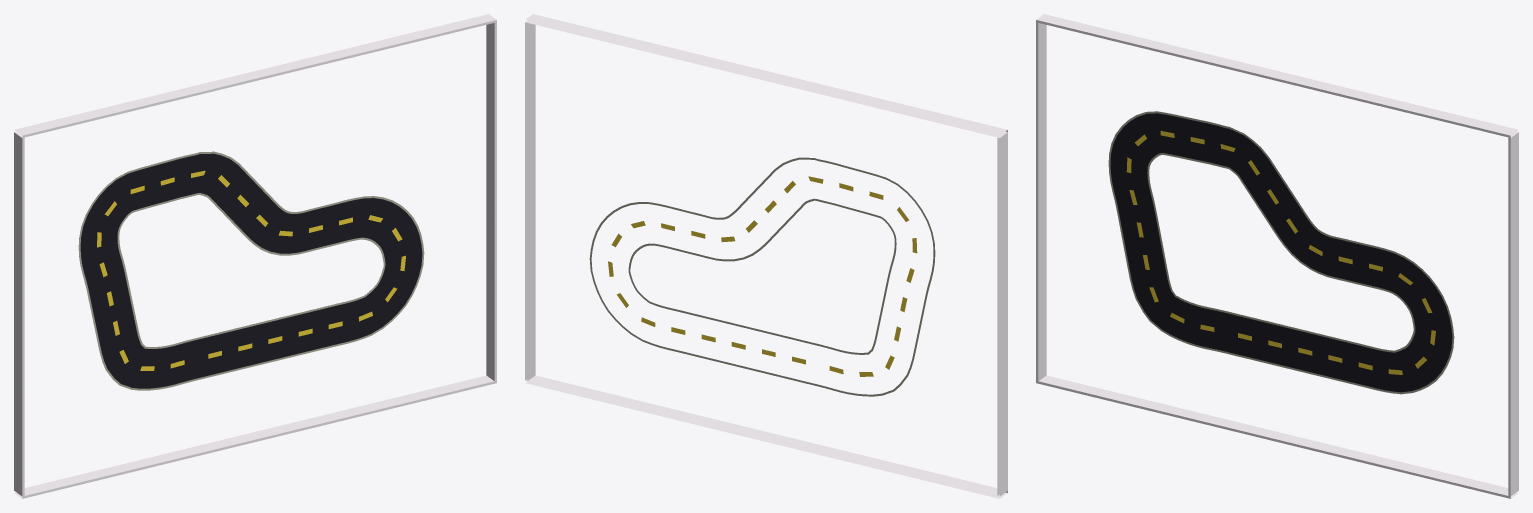
Rendered from track.obj.
3 renders of one model, left to right at view 1: azimuth 30°, elevation 25°; view 2: azimuth 150°, elevation 25°; view 3: azimuth 330°, elevation 25°, orthographic.
Bounding box in the file's own units: 10.24 × 7.49 × 0.3.
